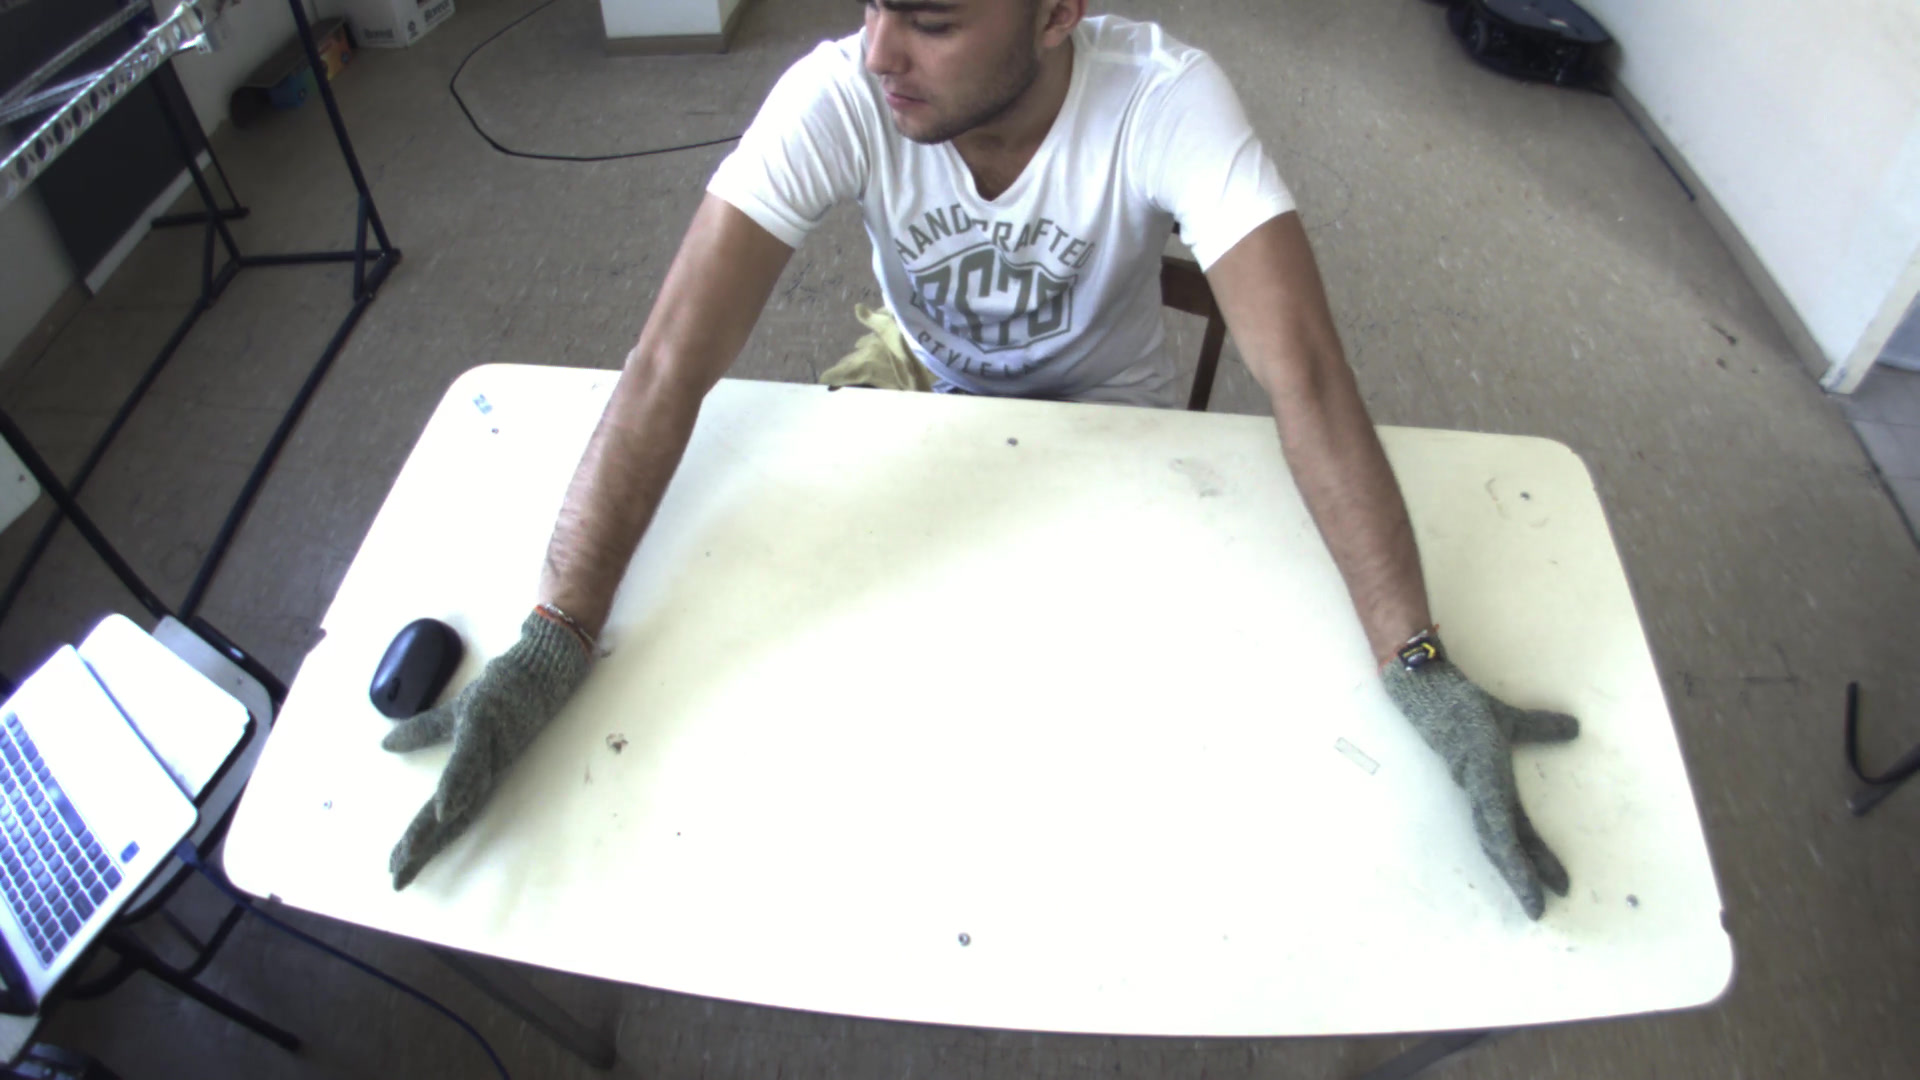hand: (371, 611, 603, 885), (1379, 665, 1601, 926)
